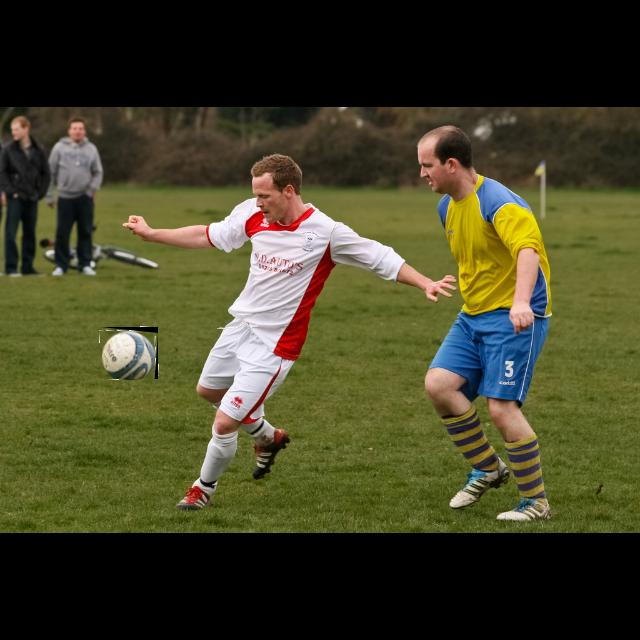Football: (100, 327, 158, 379)
